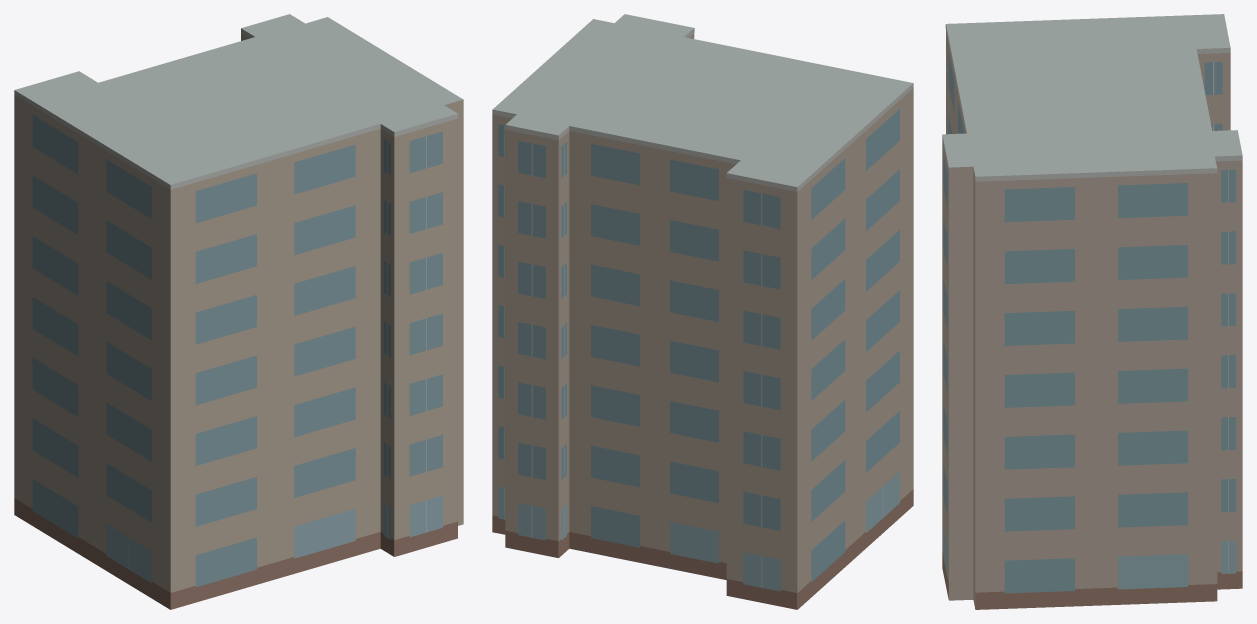
Rendered from survey-upis-32739106.glb.
The picture shows the model from 3 angles, left to right: view 1: azimuth 30°, elevation 25°; view 2: azimuth 150°, elevation 25°; view 3: azimuth 270°, elevation 25°; orthographic projection. The views are drawn at different scales.
Parts seen in each view (by area): view 1: survey-upis-32739106.tmp; view 2: survey-upis-32739106.tmp; view 3: survey-upis-32739106.tmp.
Boxes of the visible parts, x1,y1,x2,y2 form: survey-upis-32739106.tmp: (14,14,463,609); survey-upis-32739106.tmp: (492,14,913,609); survey-upis-32739106.tmp: (942,14,1242,609).
Size of the model in its own units: 17.22 by 21.35 by 13.43.
